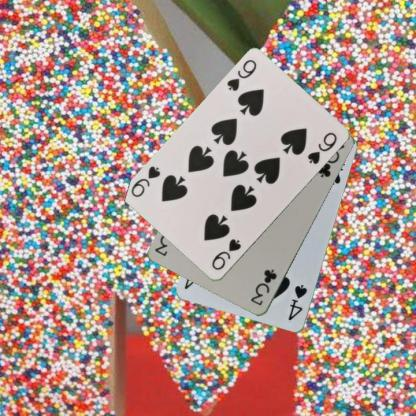3c: (248, 267, 278, 307)
4s: (286, 282, 308, 322)
9s: (209, 236, 243, 272), (224, 57, 258, 93)
